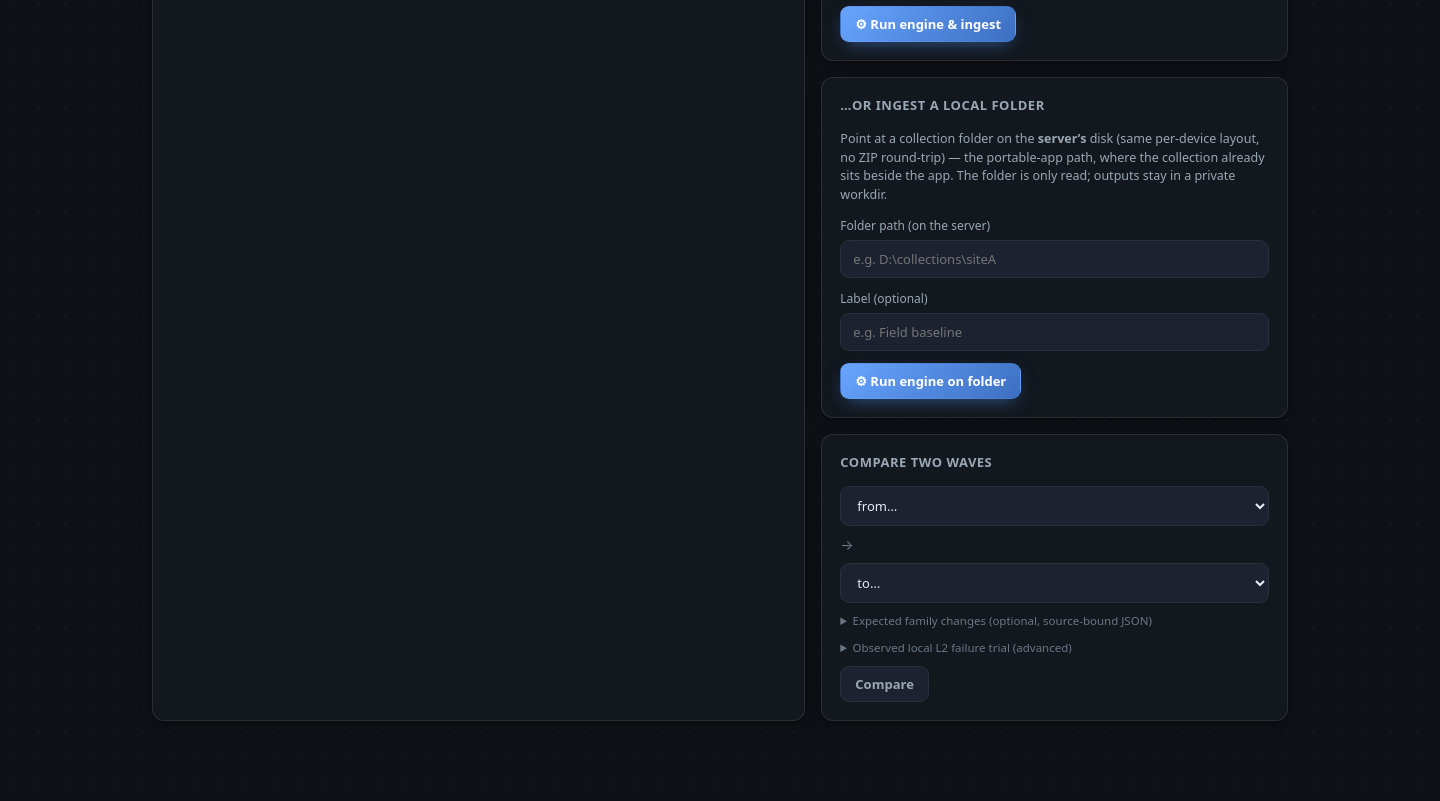
CampaignPage · coverage honesty and stale state › keeps an unchanged OSPF EXSTART baseline red even when the delta itself is CLEAN
(page scrolled)
Expected: the heading "Compare two waves" is shown, [840, 453, 992, 471]
Select "Wave 1" in the 1st dropdown at (1055, 506), box [840, 486, 1269, 526]
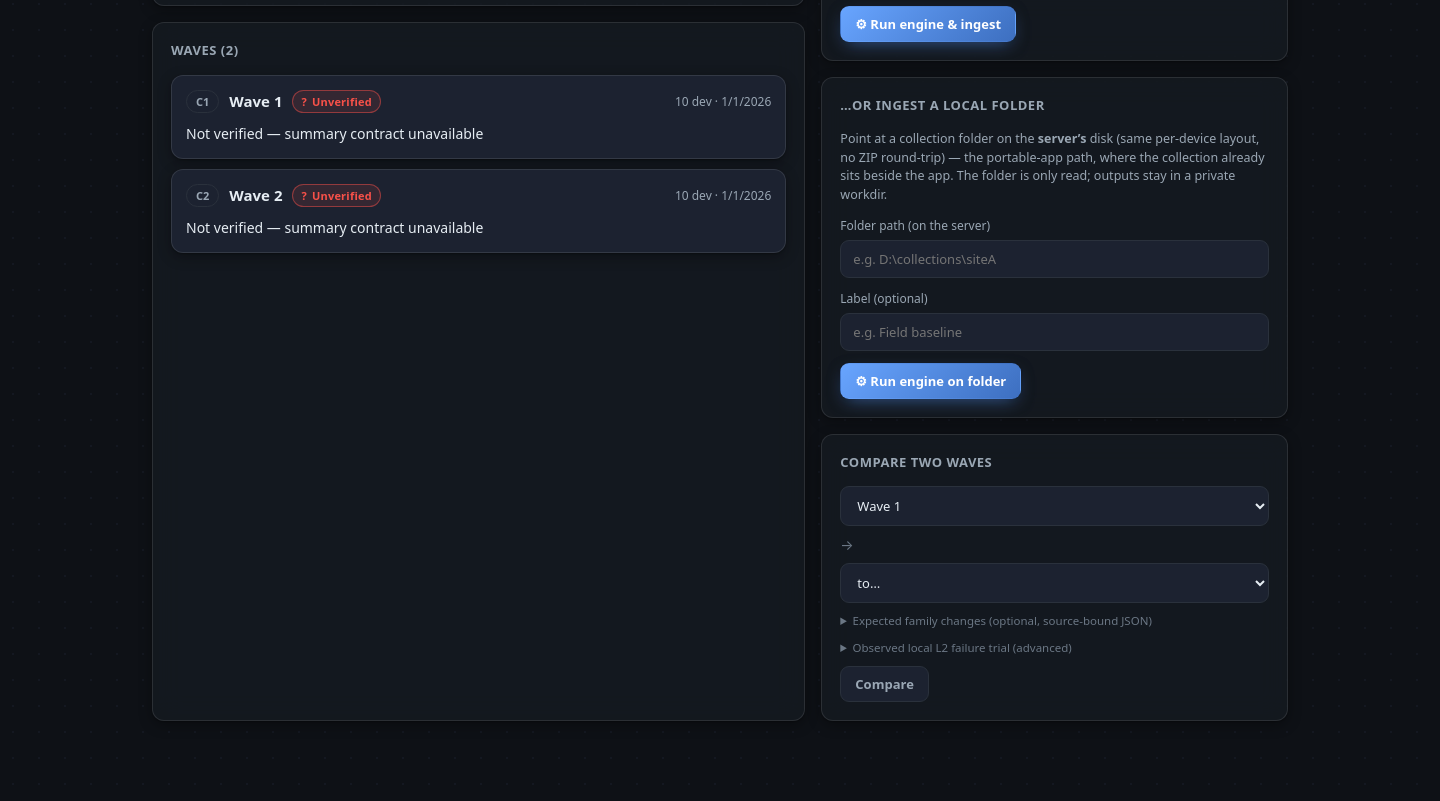
Select "Wave 2" in the 2nd dropdown at (1055, 583), box [840, 563, 1269, 603]
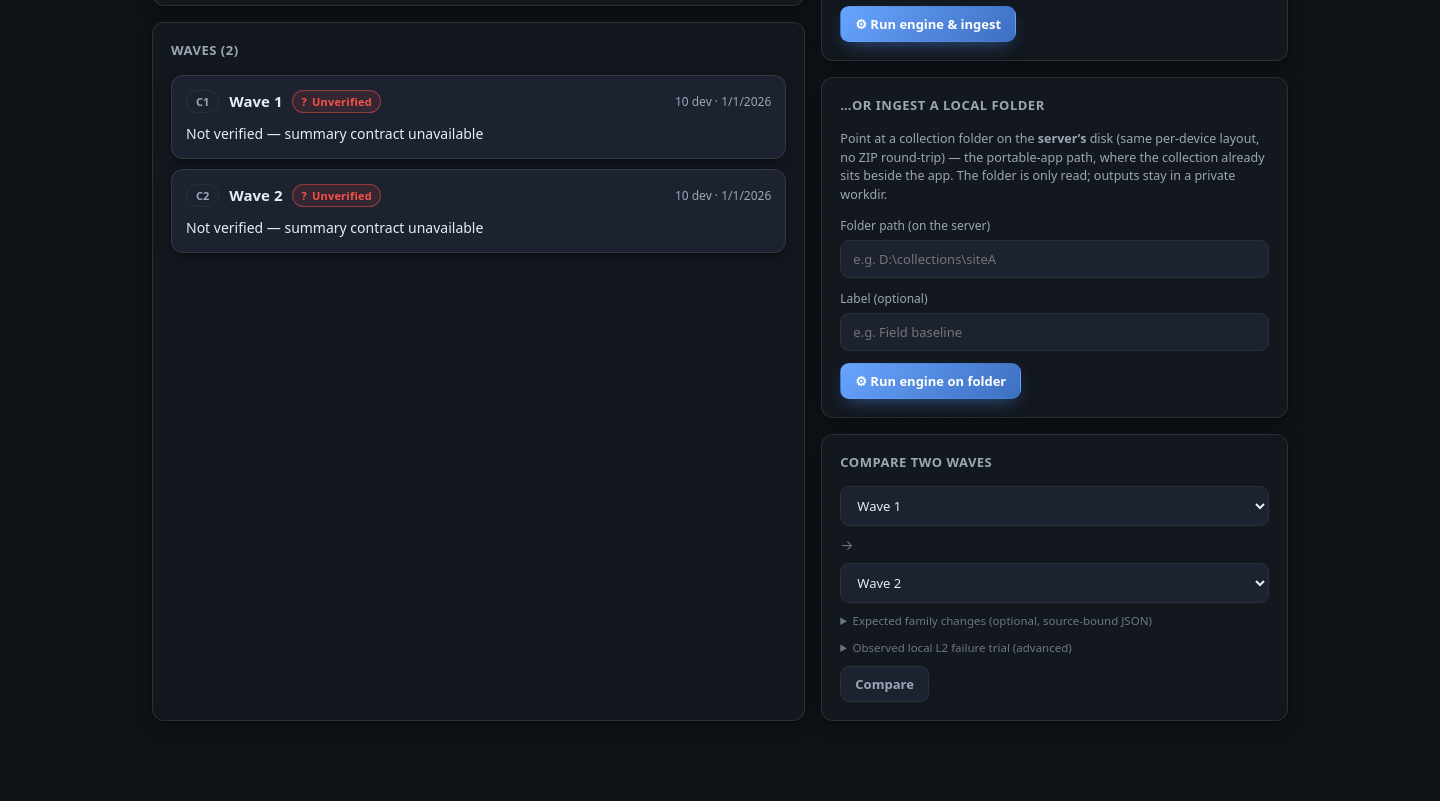
Click the button "Compare" at (885, 684), box [840, 666, 929, 702]
(page scrolled)
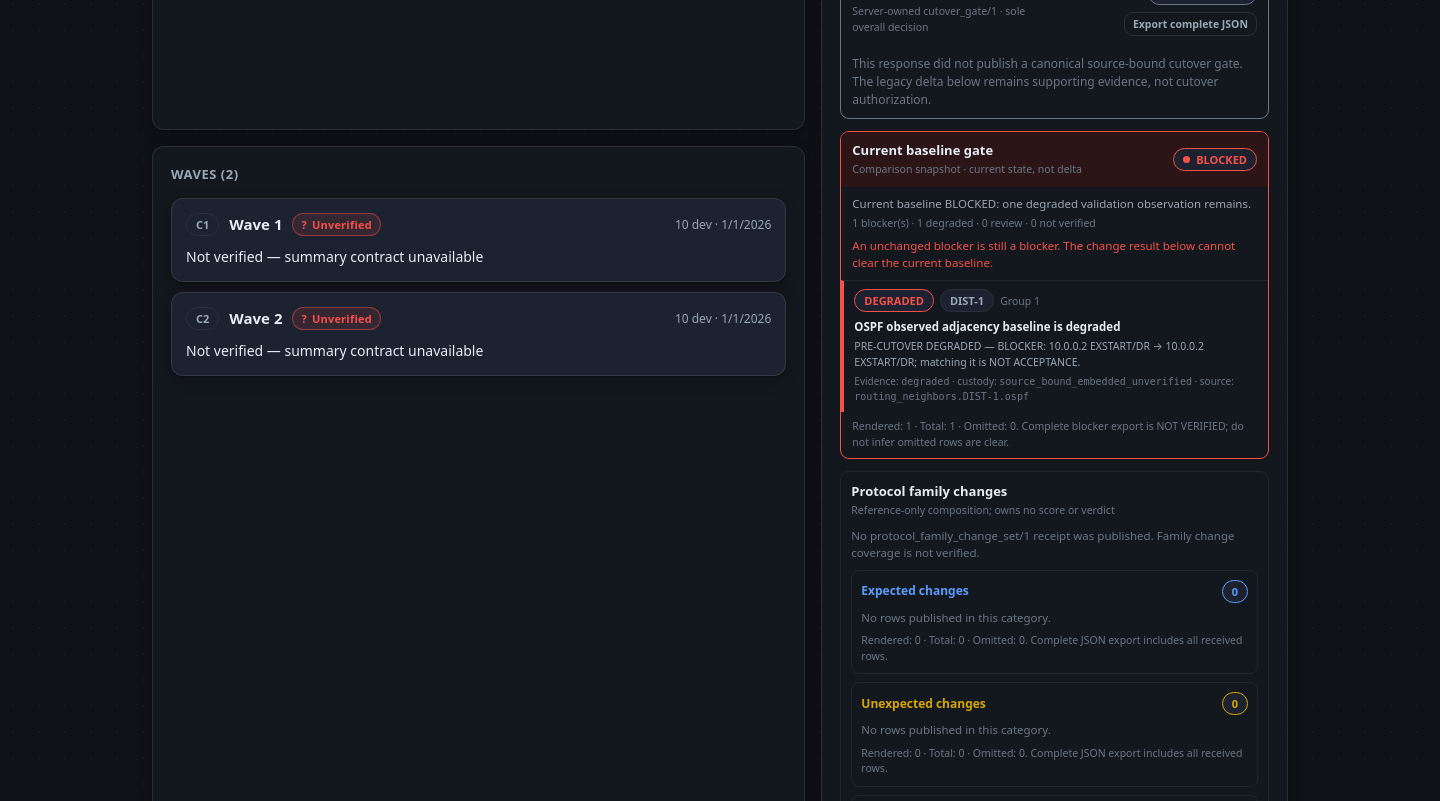
Now the element with test id "compare-current-baseline-verdict" reads "BLOCKED", box [1196, 152, 1247, 167]
Now the text "unchanged blocker is still a blocker" is shown, box [852, 238, 1235, 270]
Now the text "source_bound_embedded_unverified" is shown, box [999, 376, 1192, 387]
